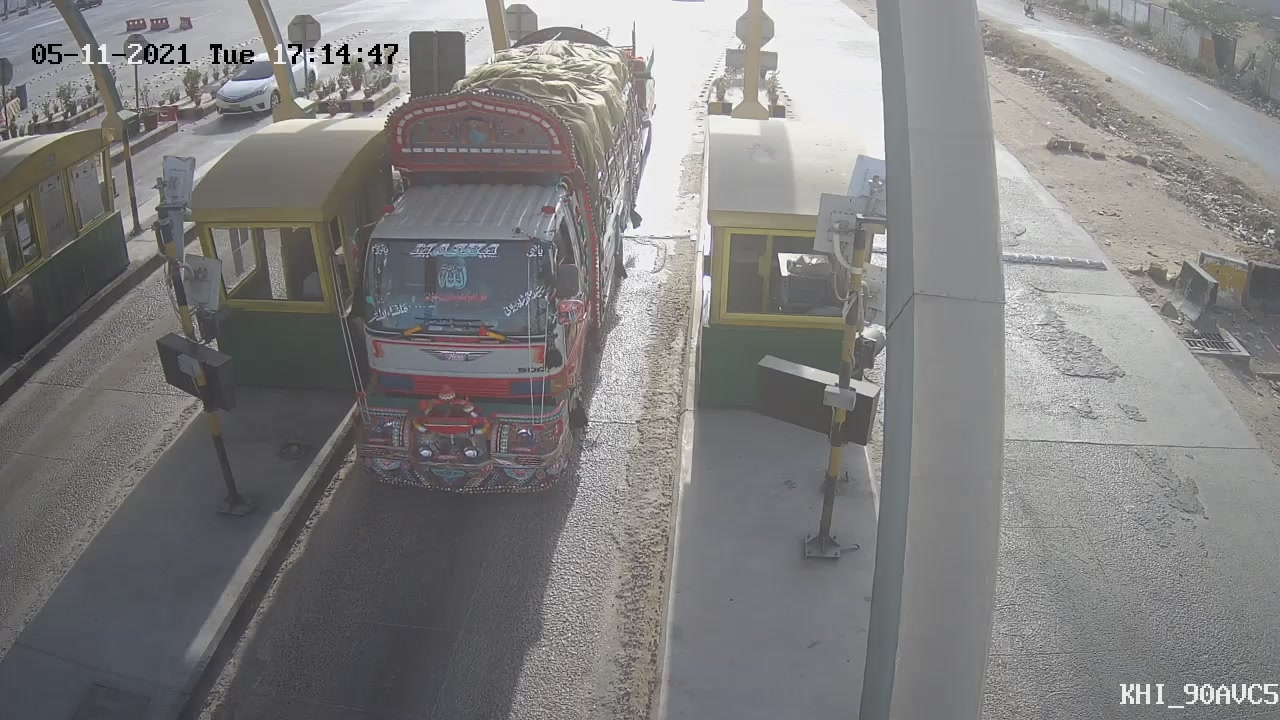F5: (299, 7, 685, 535)
